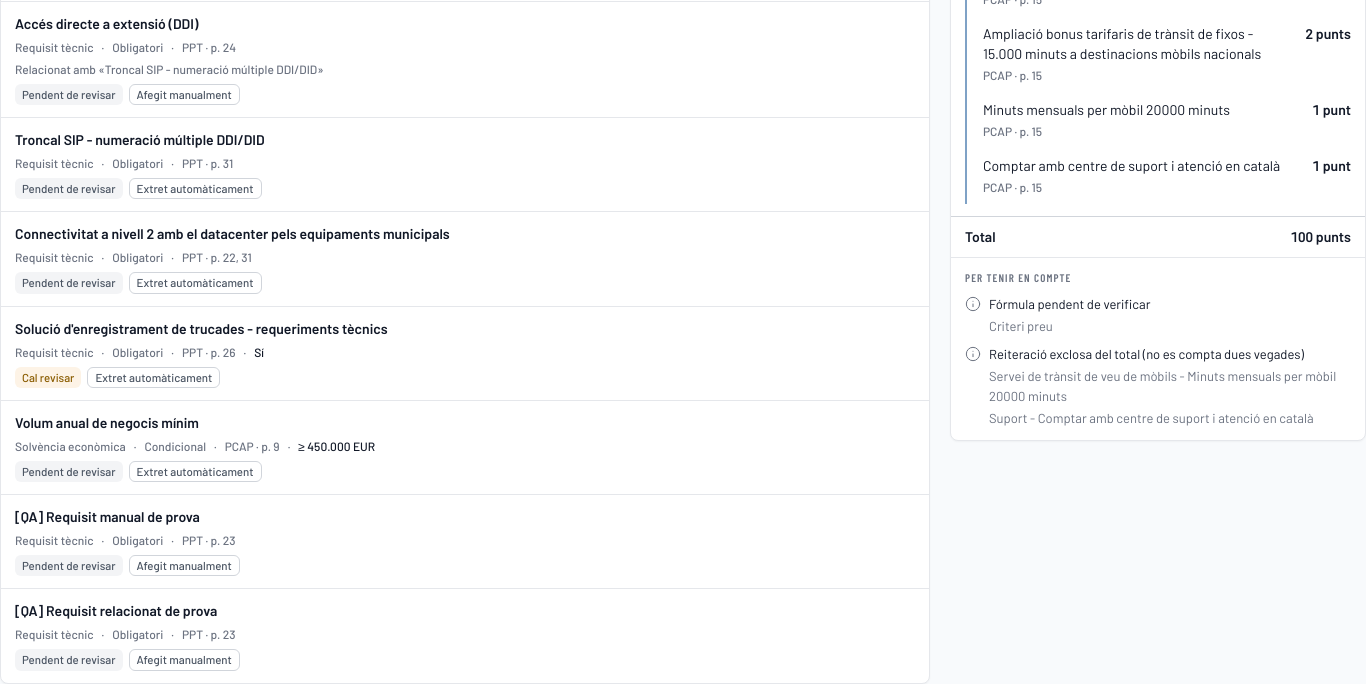
Relacions entre requisits › restatement_of: envia aquest → l'altre i torna a llegir la llista
(page scrolled)
Click the button that starts with "[QA] Requisit manual de prova" at (107, 517), box left=1, top=495, right=929, bottom=588
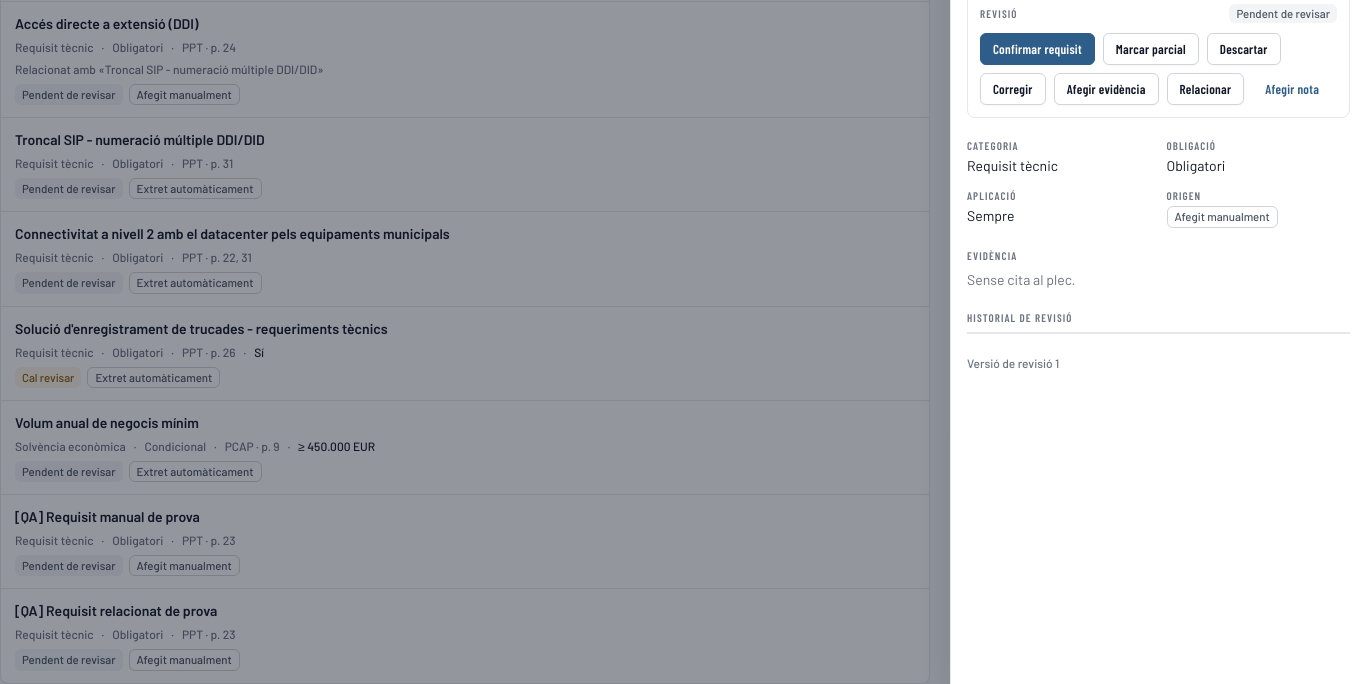
Click the button "Relacionar" at (1205, 89), box left=1167, top=73, right=1244, bottom=105
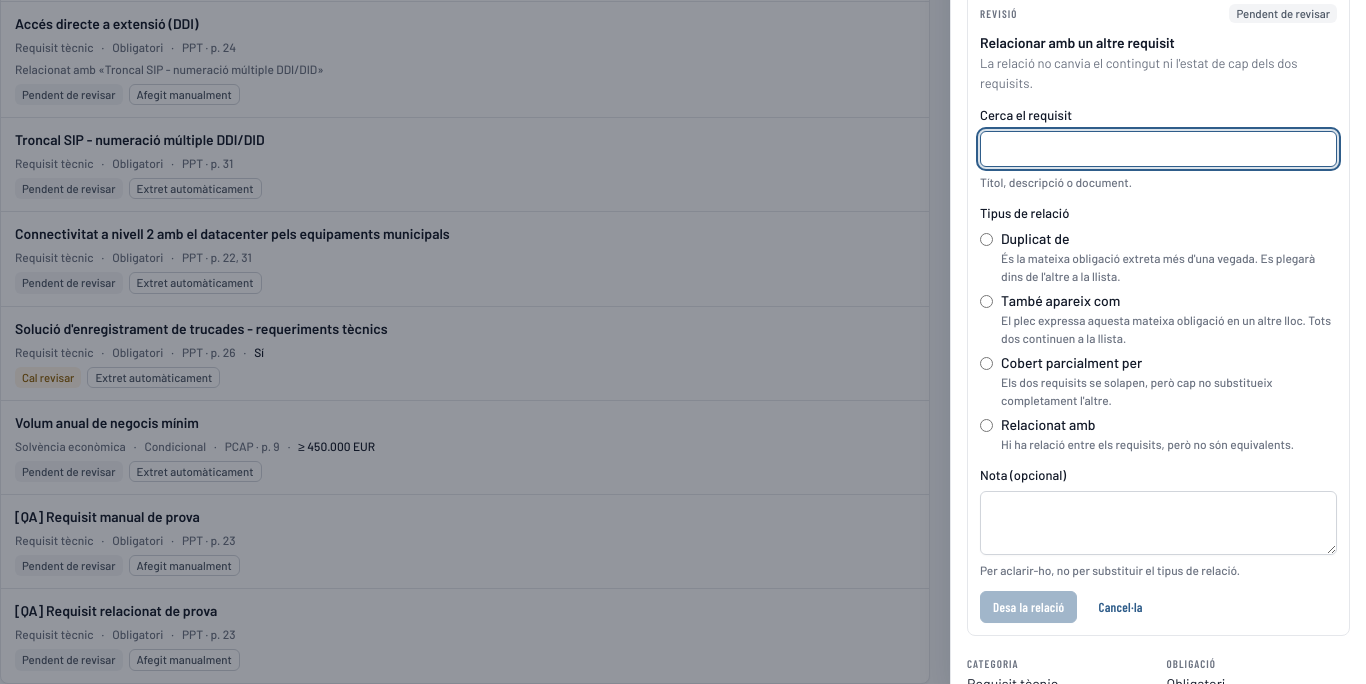
Type "relacionat" into the search field labelled "Cerca el requisit Títol, descripció o document." at (1158, 149), box left=980, top=131, right=1337, bottom=167
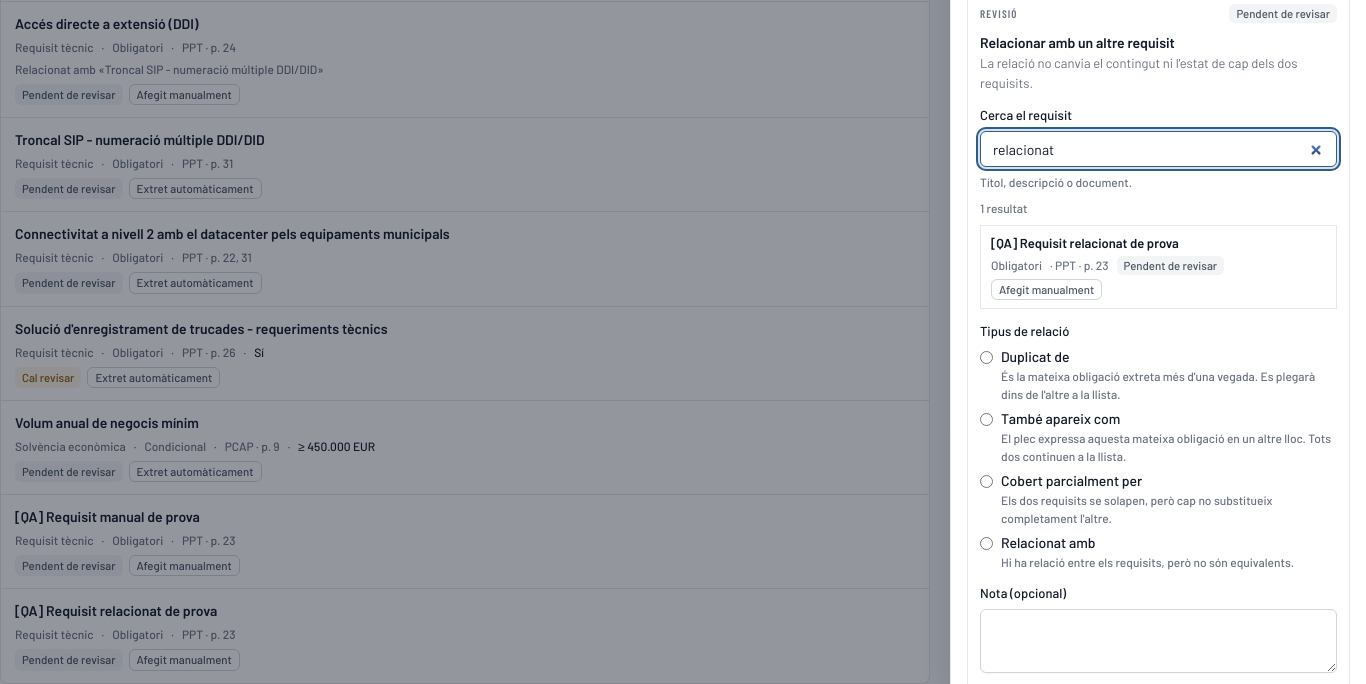
Click the button that starts with "[QA] Requisit relacionat de prova" at (1158, 267), box left=981, top=226, right=1336, bottom=308
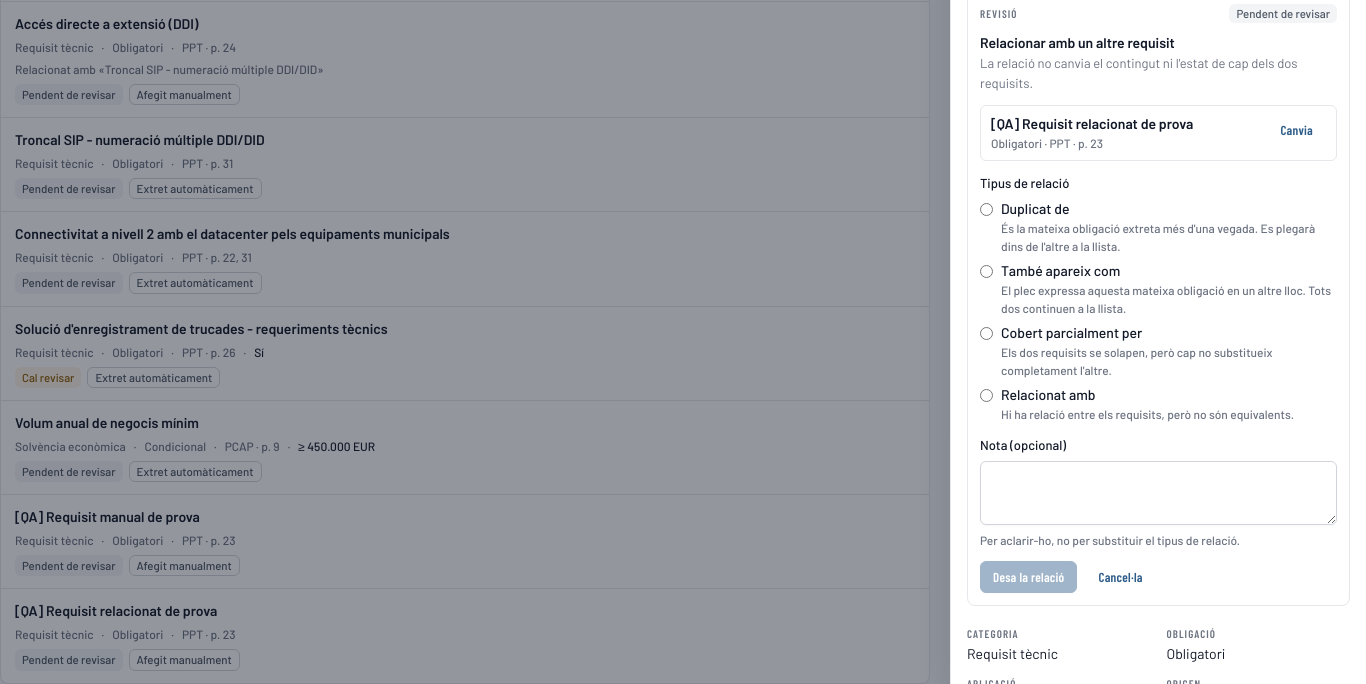
Click the radio button labelled "També apareix com" at (986, 272), box left=980, top=265, right=993, bottom=278
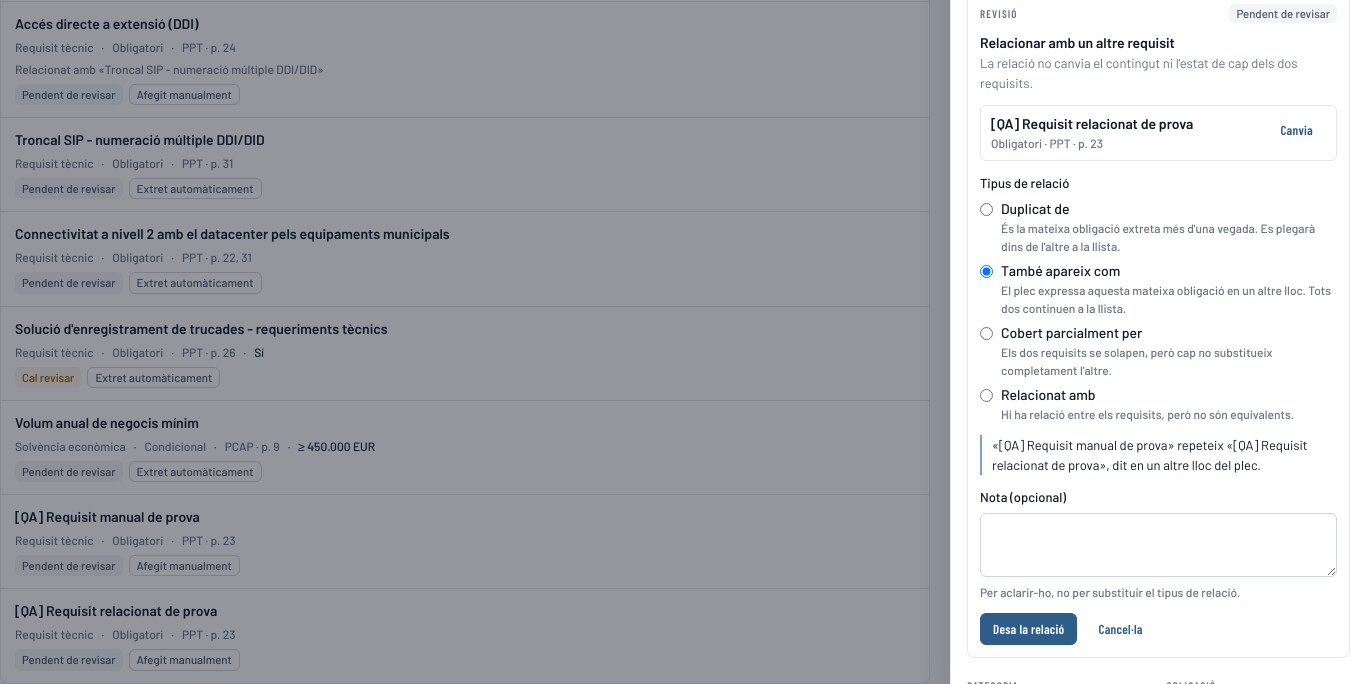
Type " Prova de QA " into the text box labelled "Nota" at (1158, 545), box left=980, top=513, right=1337, bottom=577
Click the button "Desa la relació" at (1029, 629), box left=980, top=613, right=1078, bottom=645
(page scrolled)
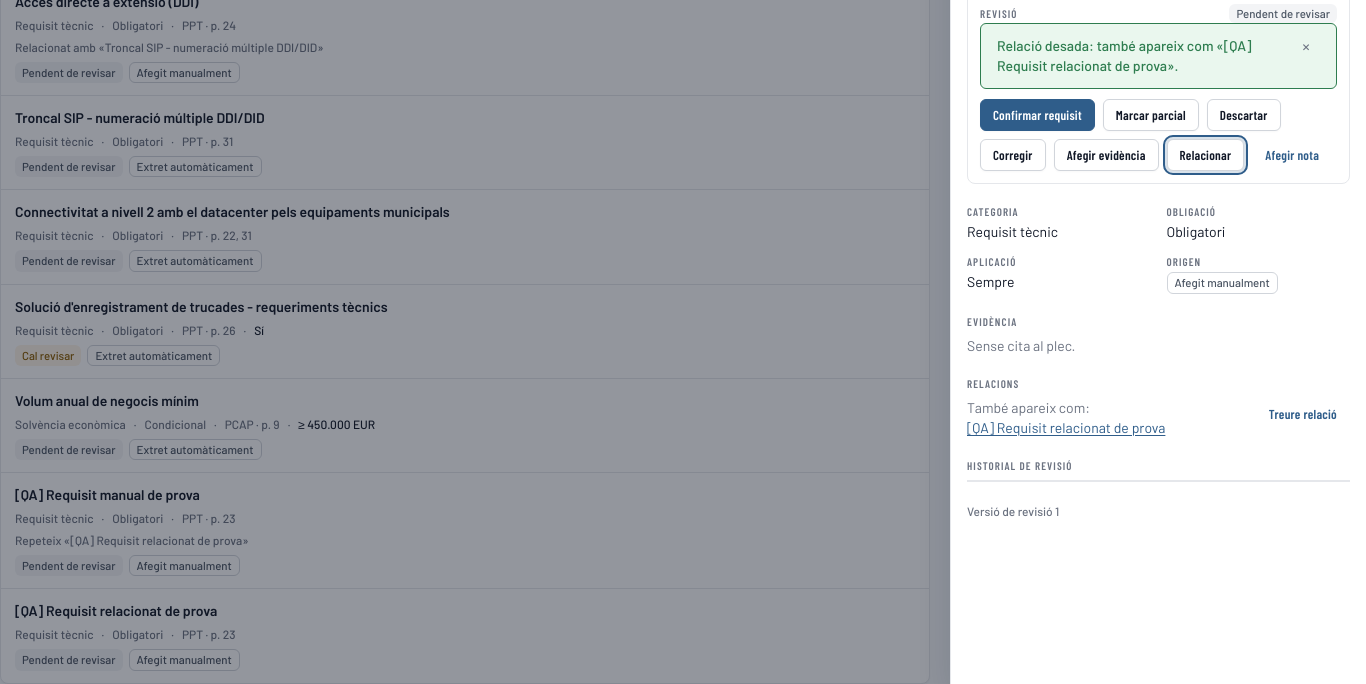
Check: the text "Relació desada:" is shown, box left=997, top=37, right=1252, bottom=74
